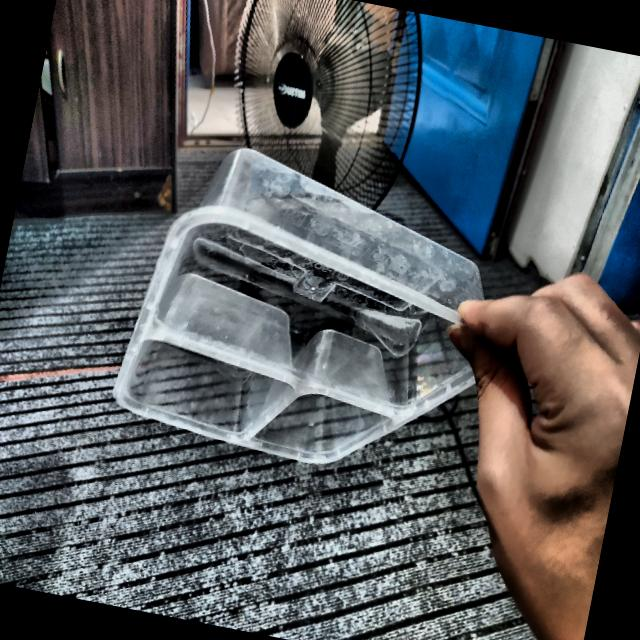plastic container: (114, 149, 483, 463)
